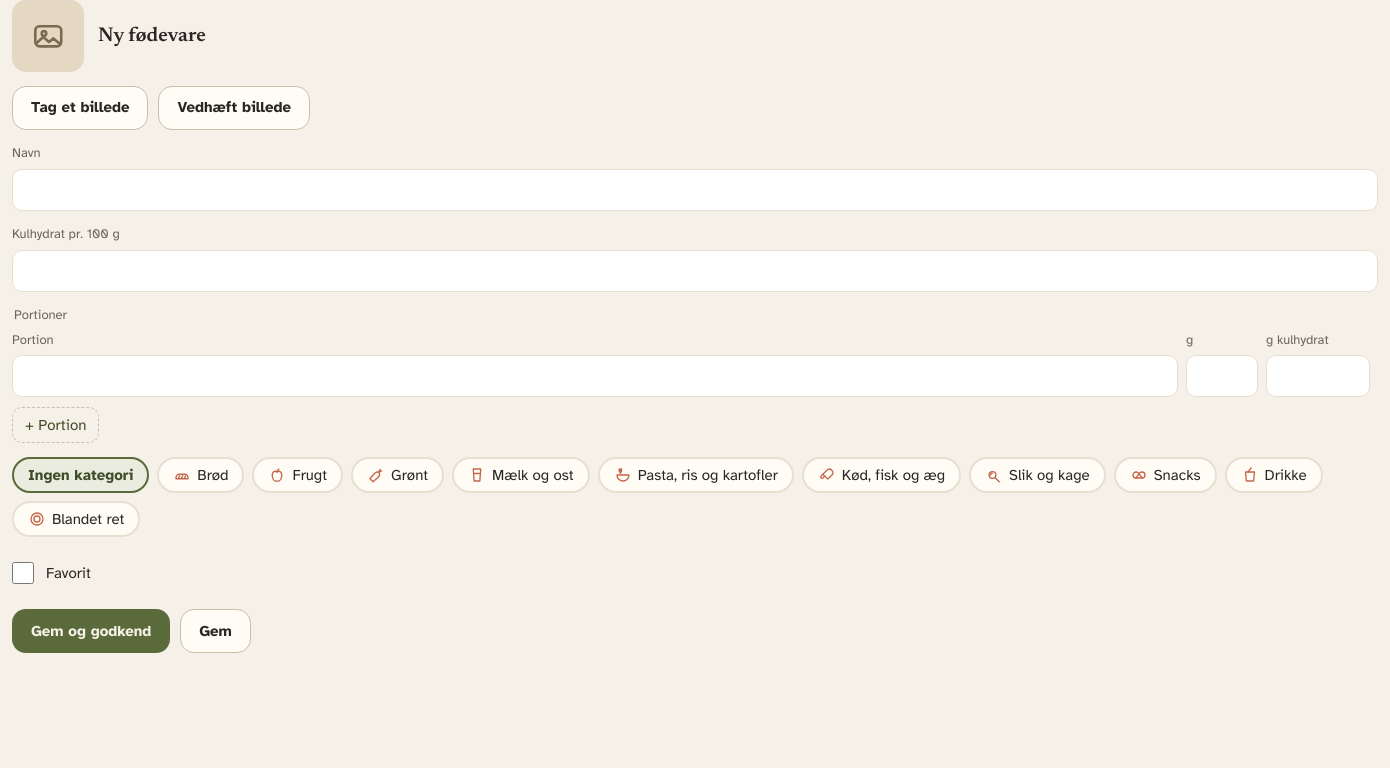
Test: FoodForm (the edit panel's fields) › asks for a name and for carbs before sending anything
The width and height of the screenshot is (1390, 768).
Click the button "Gem". click: (216, 631)
box: [180, 609, 251, 653]
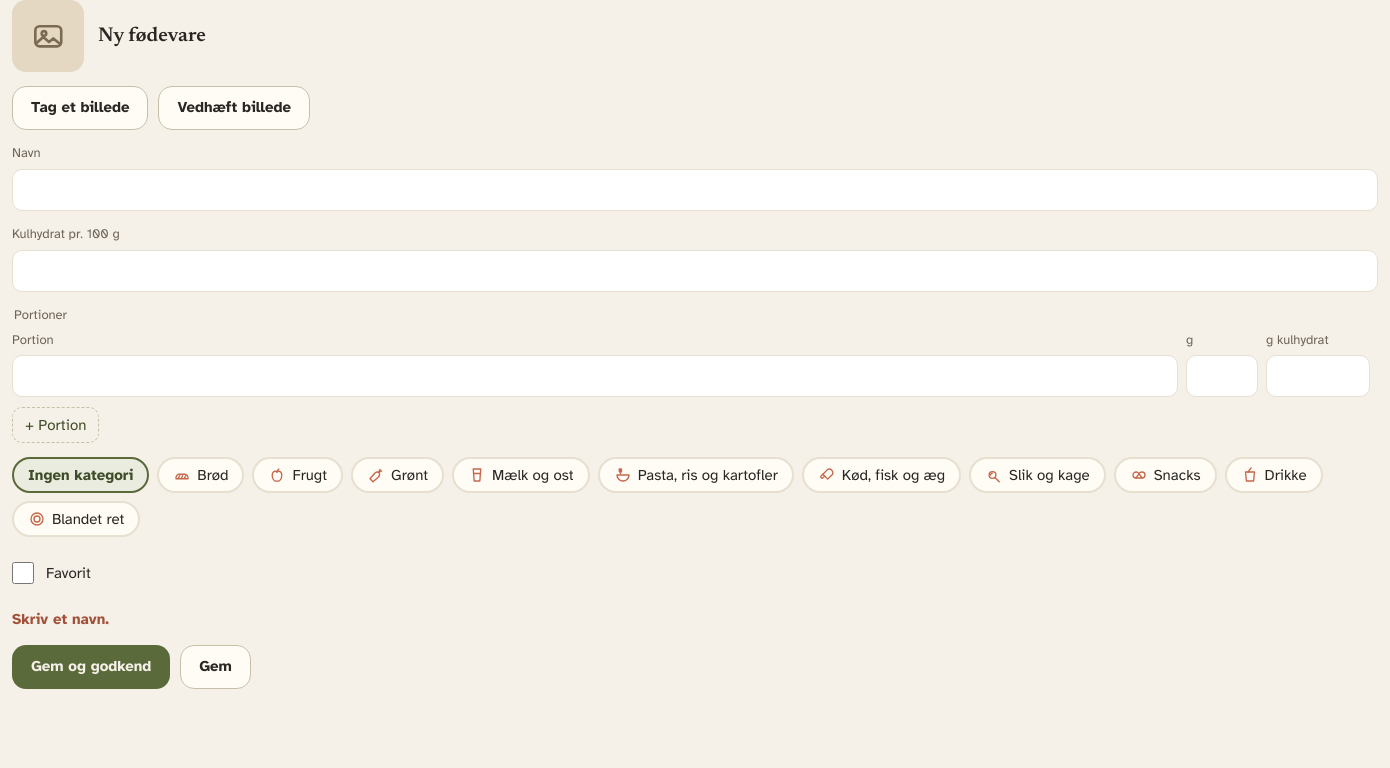
Result: the message reads "Skriv et navn." at [12, 610, 109, 628]
Type "Æble" into the field labelled "Navn". click: (695, 190)
box: [12, 169, 1378, 211]
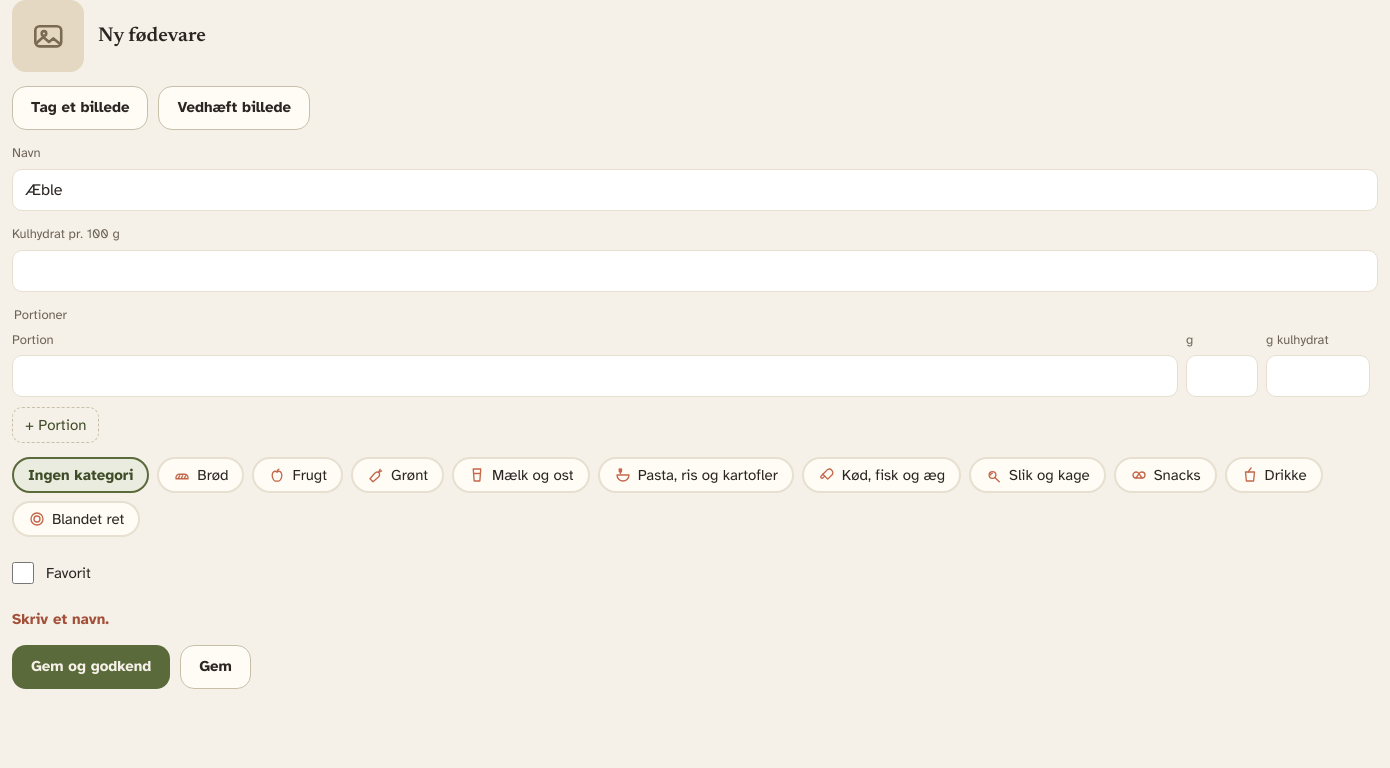
Click the button "Gem". click: (216, 667)
box: [180, 645, 251, 689]
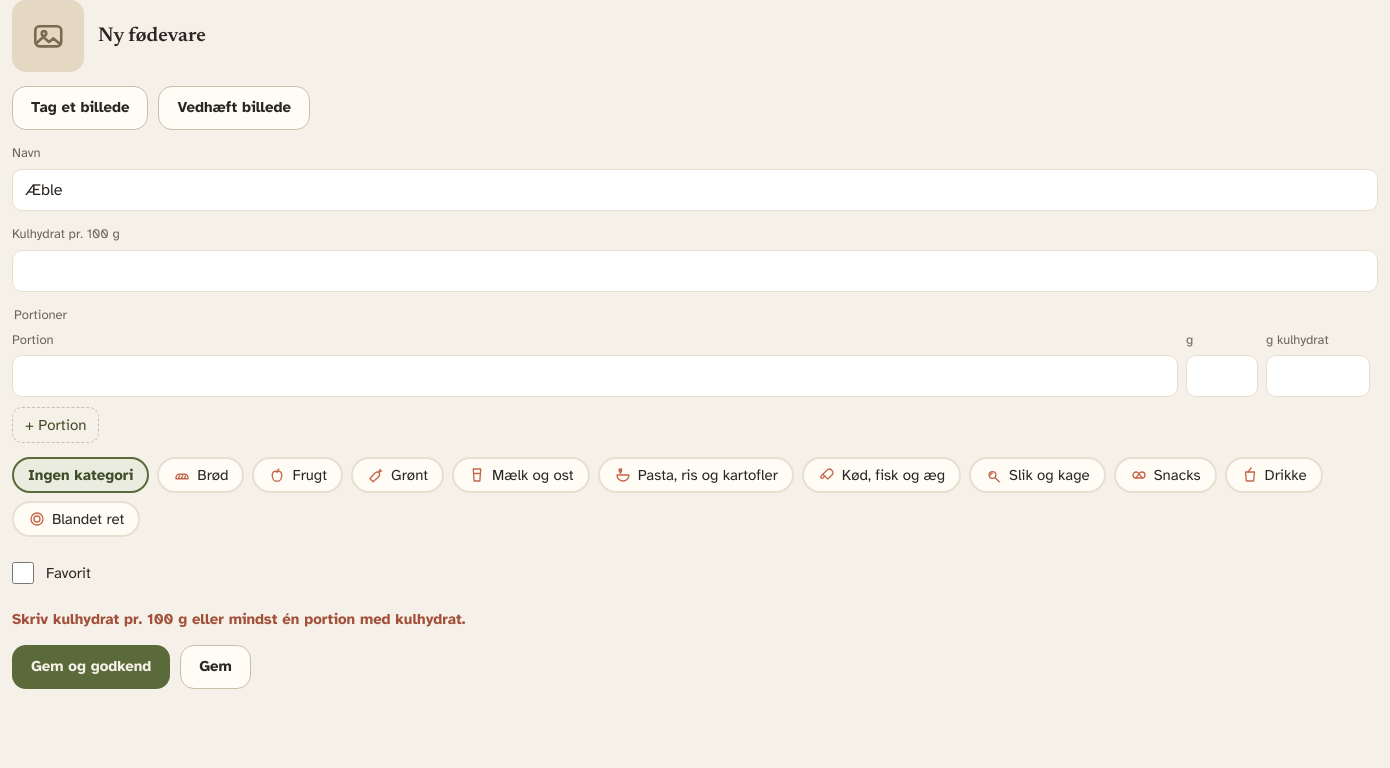
Result: the message reads "Skriv kulhydrat pr. 100 g eller mindst én portion med kulhydrat." at [12, 610, 465, 628]
